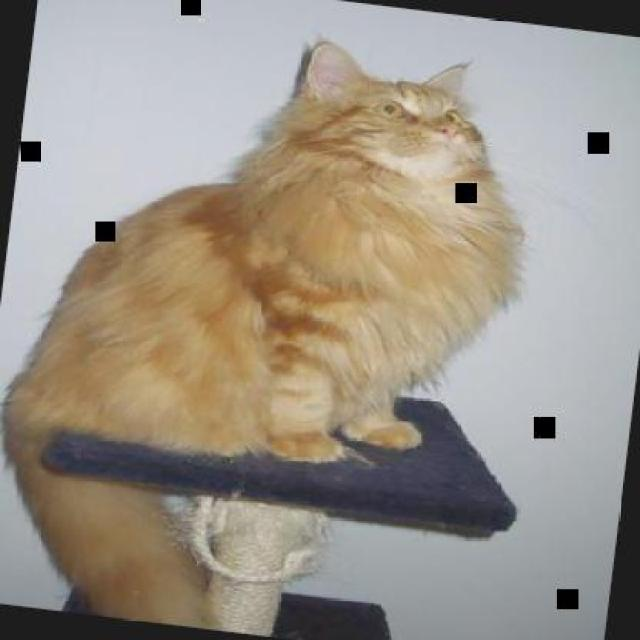cat: (0, 6, 549, 639)
